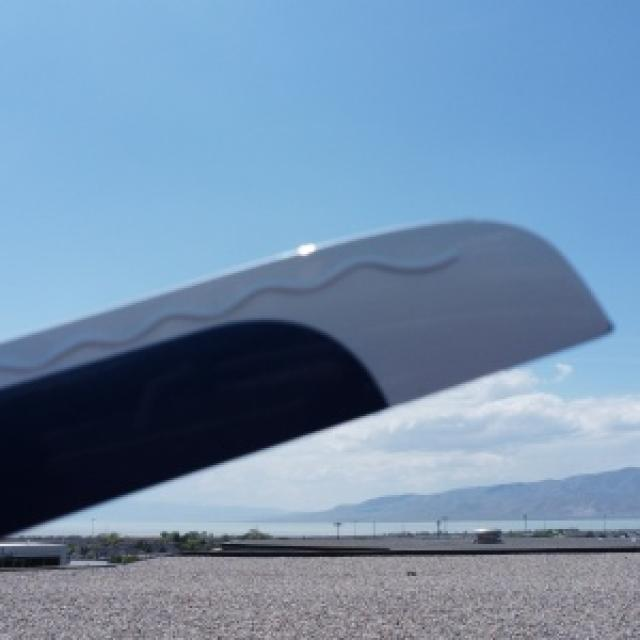healthy: (0, 222, 608, 531)
